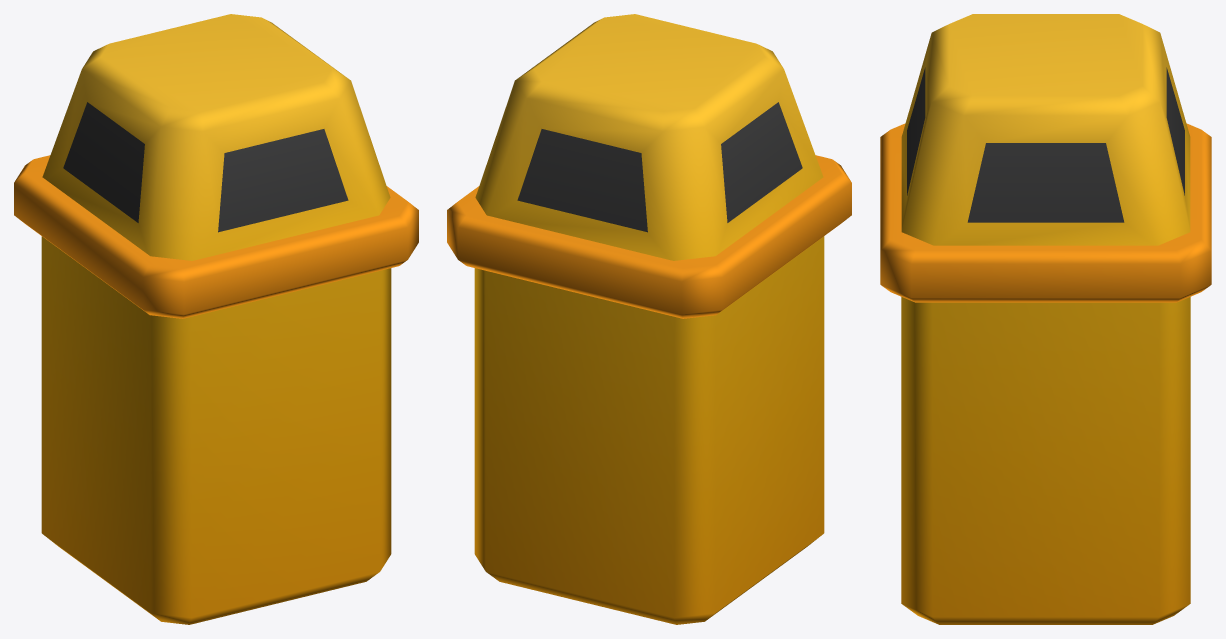
File: Trash_02.glb
3 renders of one model, left to right at view 1: azimuth 30°, elevation 25°; view 2: azimuth 150°, elevation 25°; view 3: azimuth 270°, elevation 25°, orthographic. The views are drawn at different scales.
Visible parts, largest first — view 1: Trash_02; view 2: Trash_02; view 3: Trash_02.
Part boxes in pixels (x1=…): Trash_02: x1=14, y1=14, x2=418, y2=624; Trash_02: x1=447, y1=14, x2=851, y2=624; Trash_02: x1=880, y1=14, x2=1211, y2=624.
Bounding box in the file's own units: 0.5099 × 0.8757 × 0.5099.
Materials: 1 (1 with a texture image).
